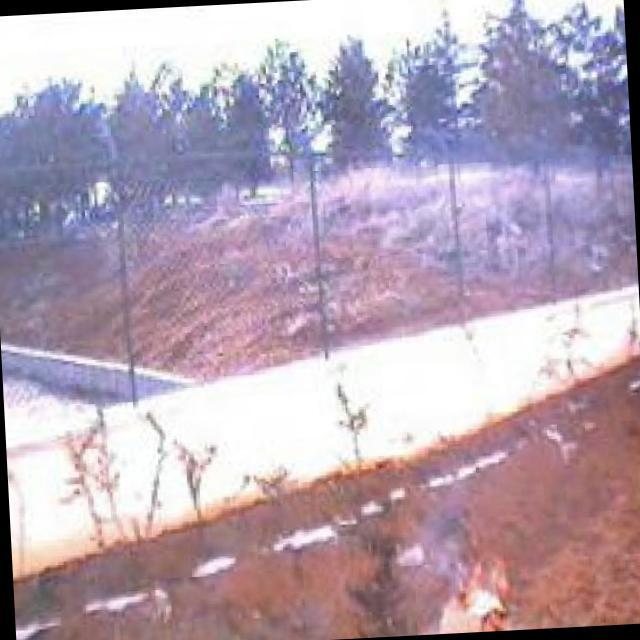Fire: (427, 514, 519, 636)
